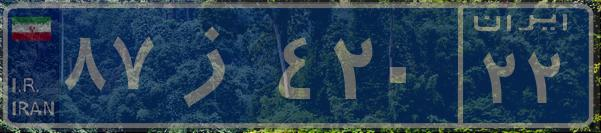0: (385, 28, 445, 110)
2: (330, 28, 385, 110), (475, 38, 525, 113), (525, 38, 570, 115)
4: (273, 28, 330, 110)
7: (110, 28, 158, 105)
8: (57, 26, 110, 107)
ز: (158, 15, 273, 115)
